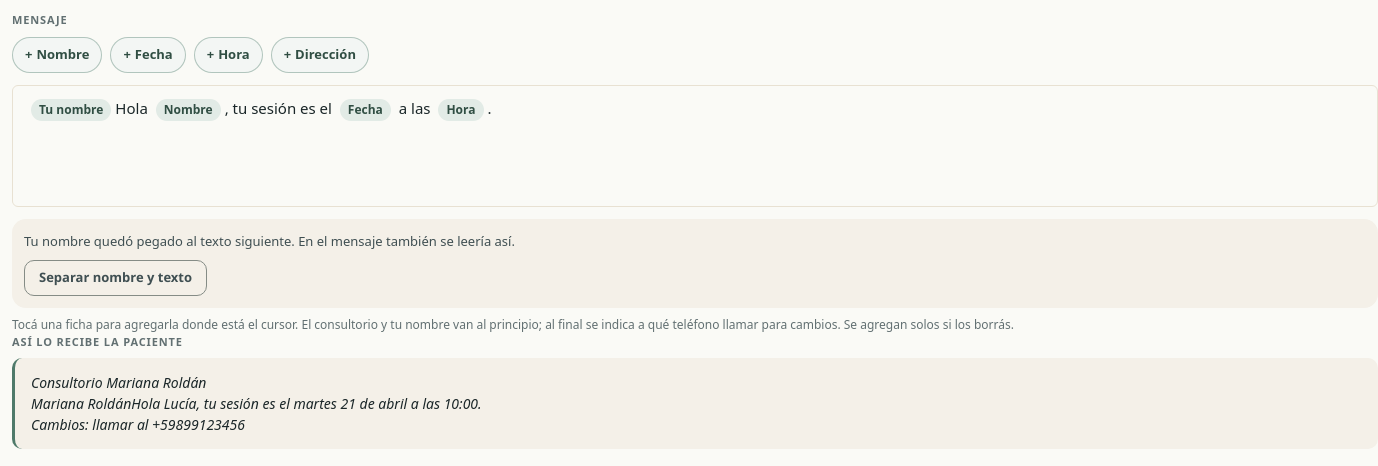
it: vista previa fiel del recordatorio › corrige la plantilla real con un toque y actualiza el editor y la vista previa juntos
Click the button "Separar nombre y texto". click: (116, 278)
box: [24, 260, 207, 296]
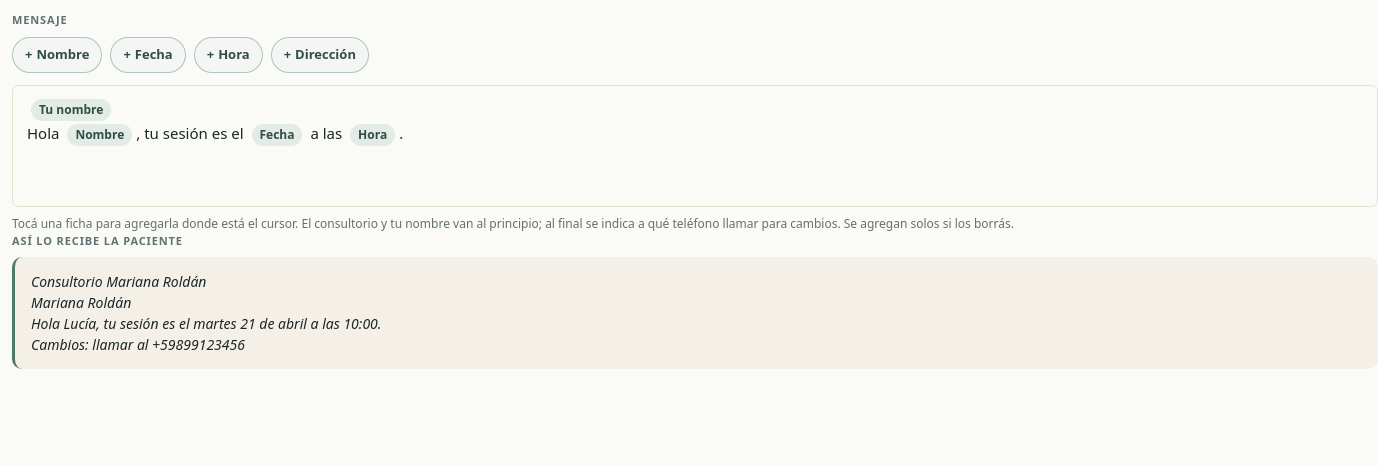
Check: the button "Separar nombre y texto" is gone
